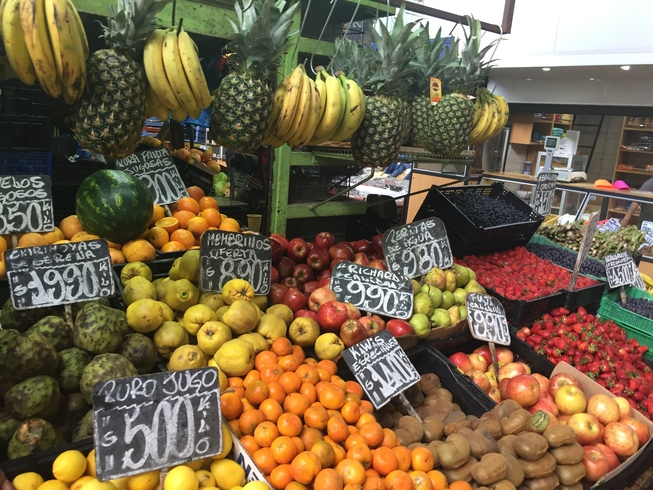precio: (84, 363, 231, 473), (1, 230, 109, 322), (338, 326, 426, 412), (190, 224, 283, 302), (325, 258, 425, 325), (380, 215, 463, 288), (108, 145, 194, 214), (462, 286, 522, 357), (1, 170, 55, 235), (599, 242, 644, 299), (531, 171, 562, 223)
